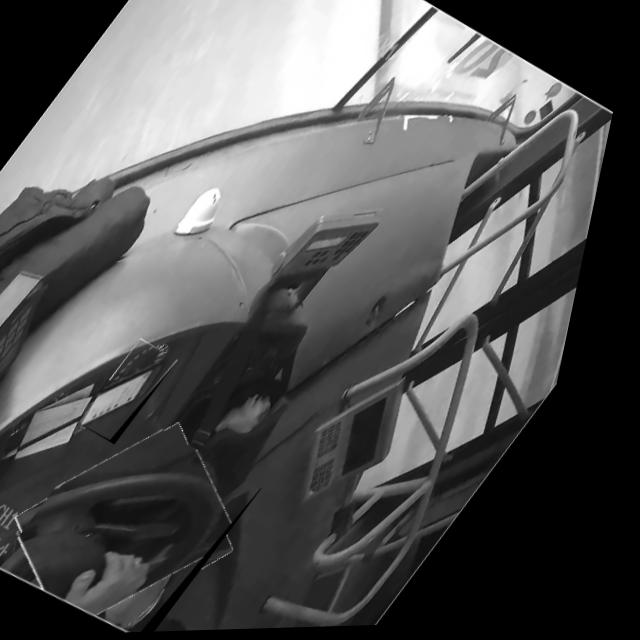phone: (92, 339, 197, 447)
wheel: (8, 401, 297, 637)
